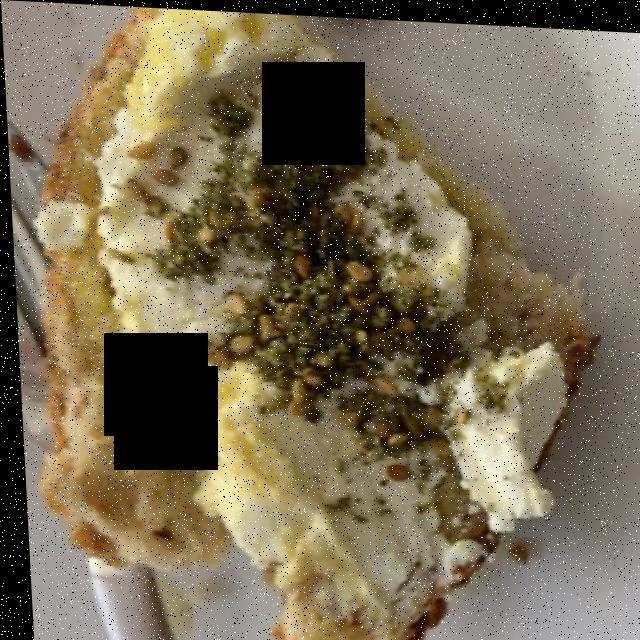bread: (41, 16, 584, 640)
sesame-seeds: (211, 245, 317, 360)
yogurt: (99, 10, 566, 621)
